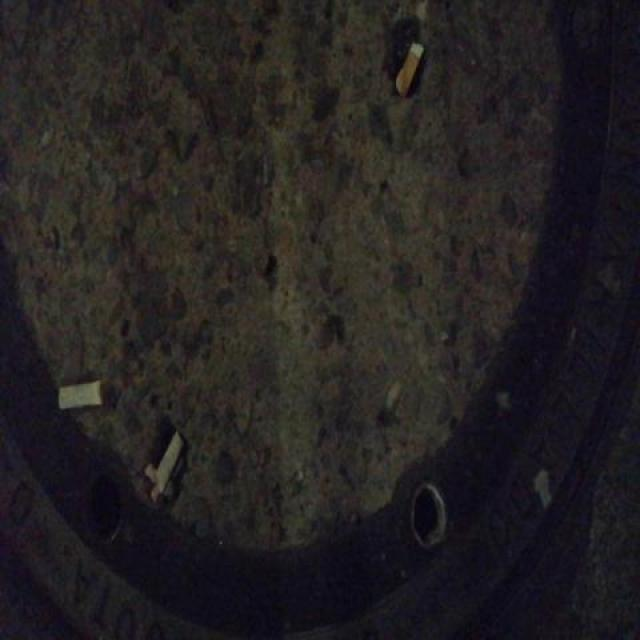non-organic waste: (149, 427, 188, 500), (393, 37, 427, 103), (52, 376, 108, 416)
